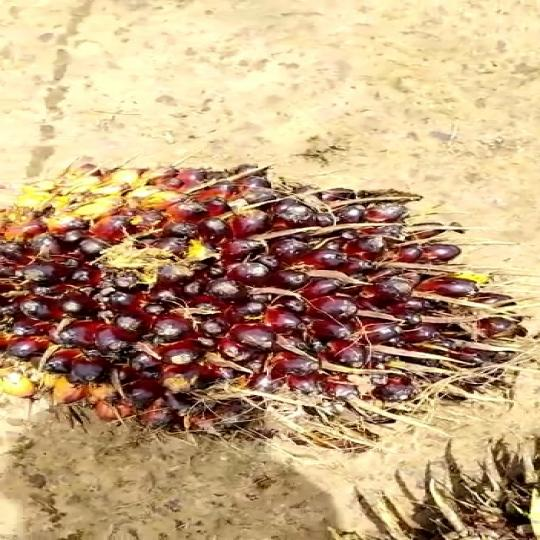mentah: (1, 146, 526, 448)
